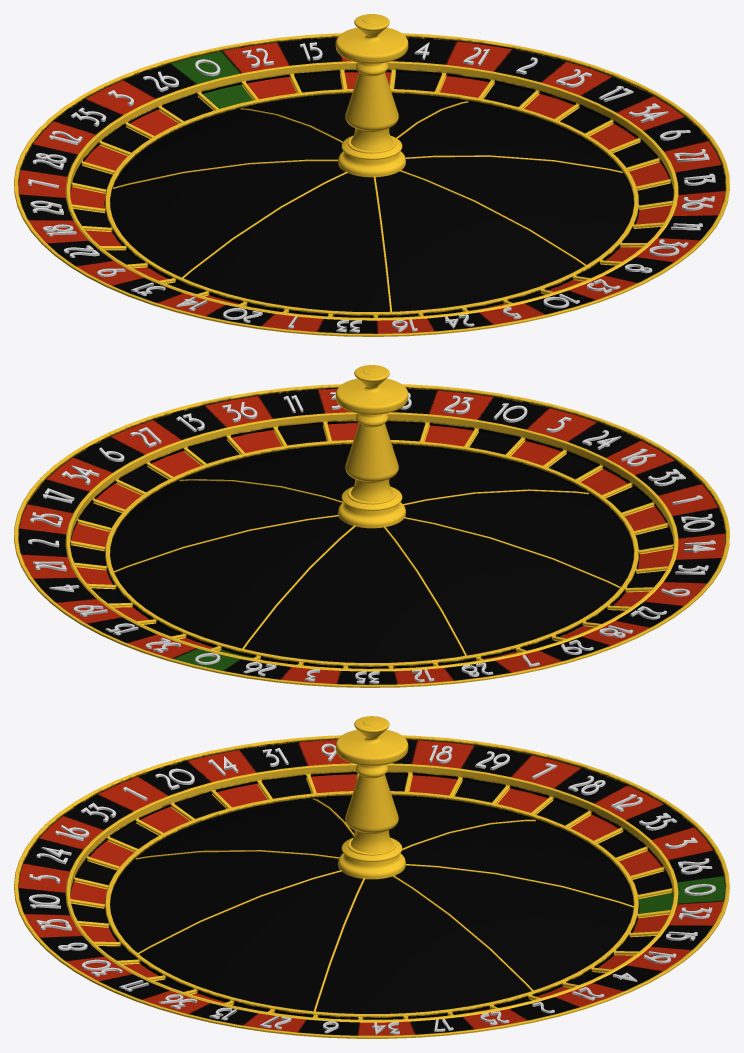
The model's file is WheelTop.fbx.
3 renders of one model, top to bottom at view 1: azimuth 30°, elevation 25°; view 2: azimuth 150°, elevation 25°; view 3: azimuth 270°, elevation 25°, orthographic.
Visible parts, largest first — view 1: WheelTop; view 2: WheelTop; view 3: WheelTop.
Part boxes in pixels (bbox=[...]): WheelTop: bbox=[14, 14, 729, 336]; WheelTop: bbox=[14, 365, 729, 687]; WheelTop: bbox=[14, 716, 729, 1038].
Bounding box in the file's own units: 61.14 × 17.51 × 61.19.
Materials: 1 (1 with a texture image).
